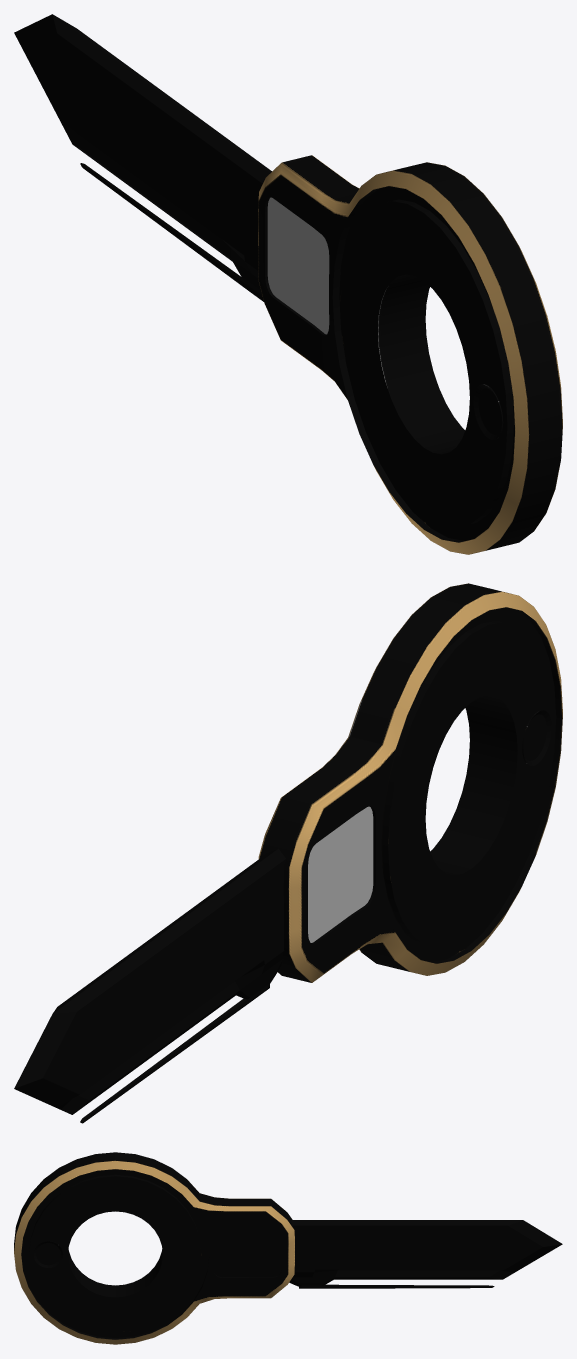
File: vault_key.glb
The picture shows the model from 3 angles, top to bottom: view 1: azimuth 30°, elevation 25°; view 2: azimuth 150°, elevation 25°; view 3: azimuth 270°, elevation 25°; orthographic projection. The views are drawn at different scales.
Parts seen in each view (by area): view 1: Cylinder_2, Cube_4, Cylinder.002_8; view 2: Cylinder_2, Cube_4, Cylinder.002_8; view 3: Cylinder_2, Cube_4, Cylinder.001_6.
Part boxes in pixels (x1,y1,x2,y2): Cylinder_2: (258,155,562,554); Cube_4: (14,14,271,301); Cylinder.002_8: (267,197,329,334); Cylinder_2: (258,583,562,982); Cube_4: (14,848,285,1123); Cylinder.002_8: (308,806,373,942); Cylinder_2: (14,1152,294,1344); Cube_4: (289,1220,562,1288); Cylinder.001_6: (213,1226,281,1277).
Size of the model in its own units: 0.4822 by 3.31 by 8.95.
Materials: 4 (4 with a texture image).
